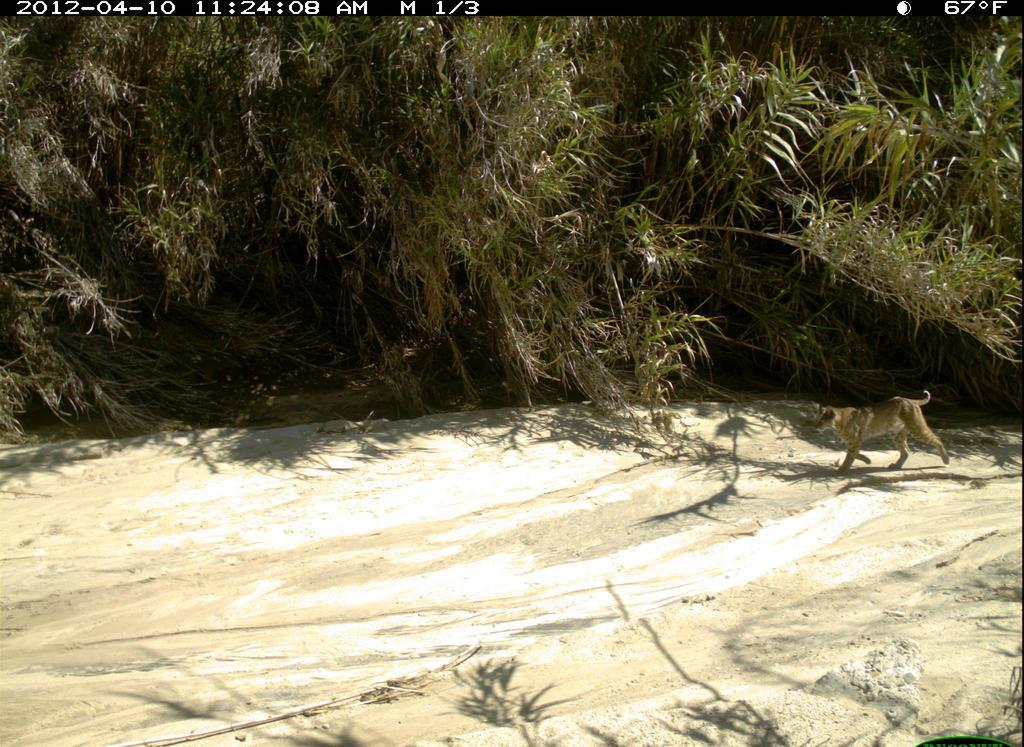bobcat: (804, 388, 959, 483)
